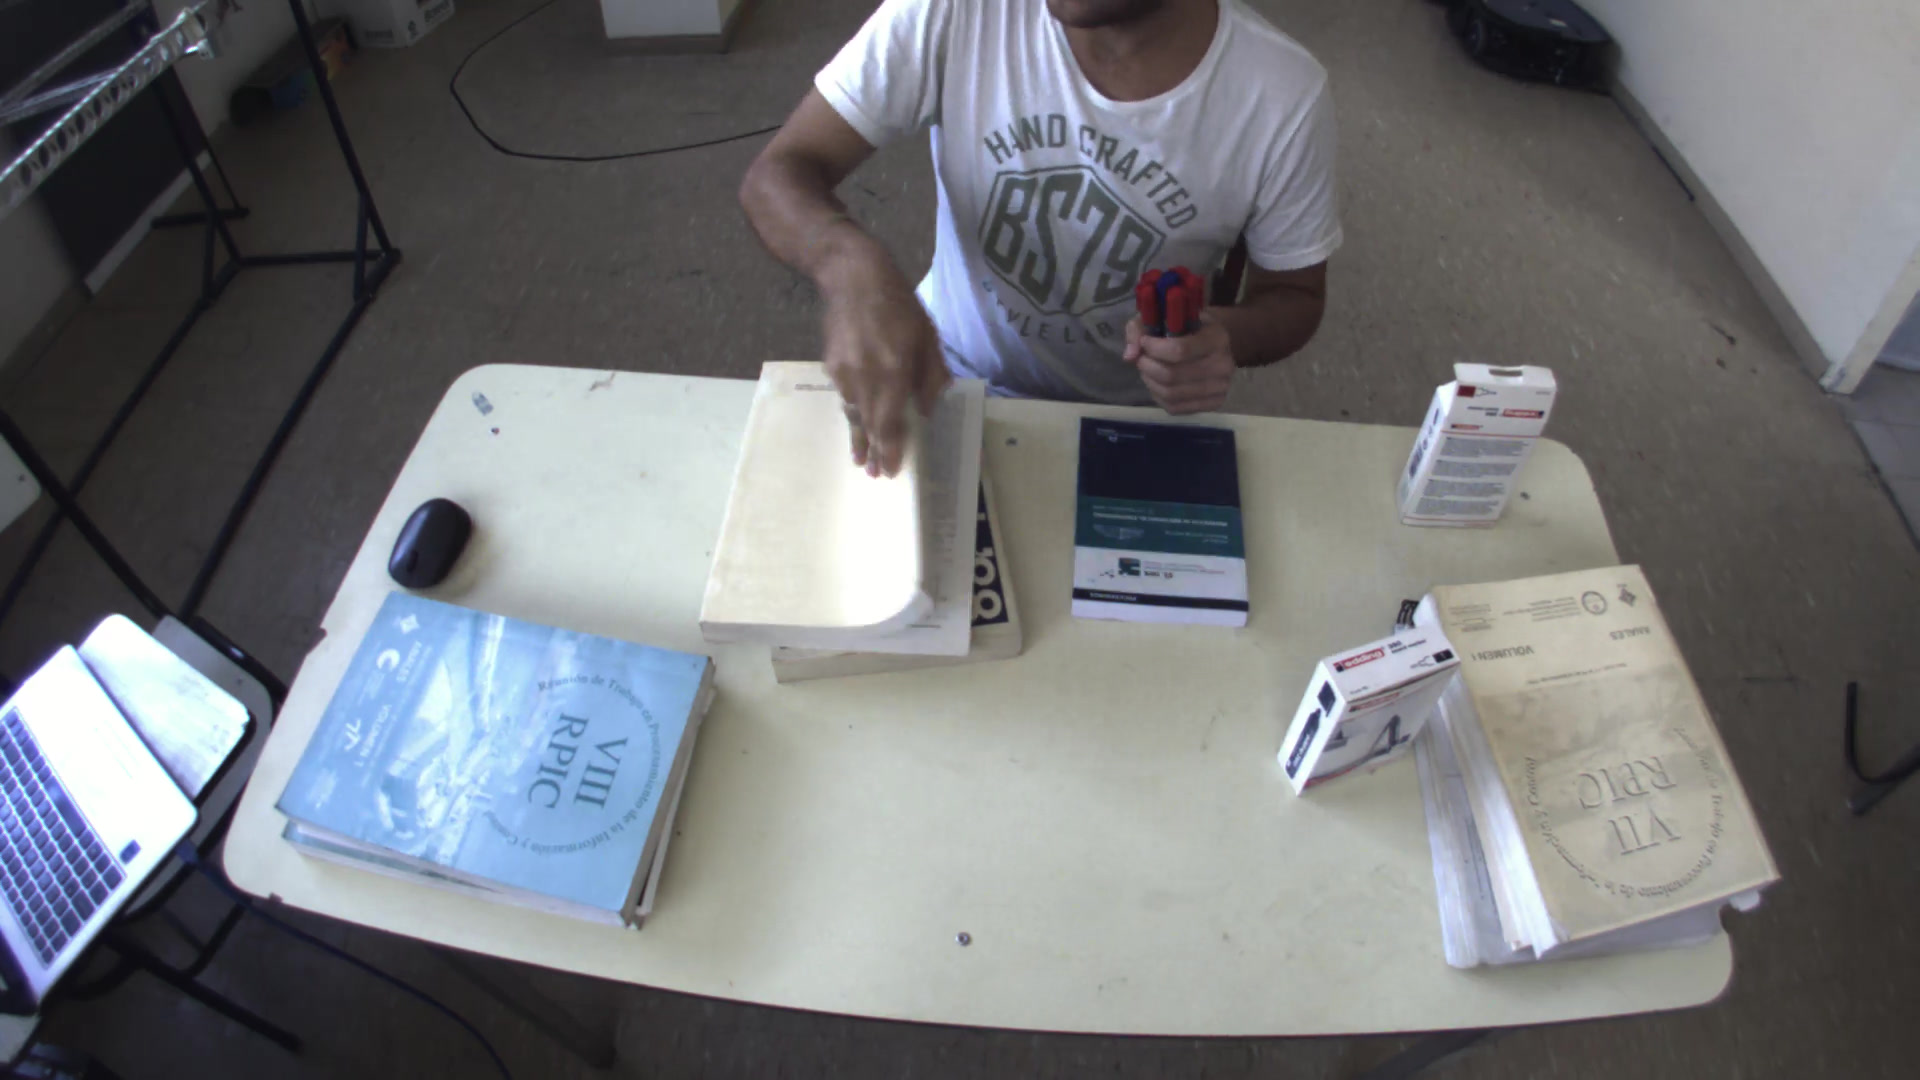hand: (799, 252, 949, 467), (1117, 276, 1250, 427)
